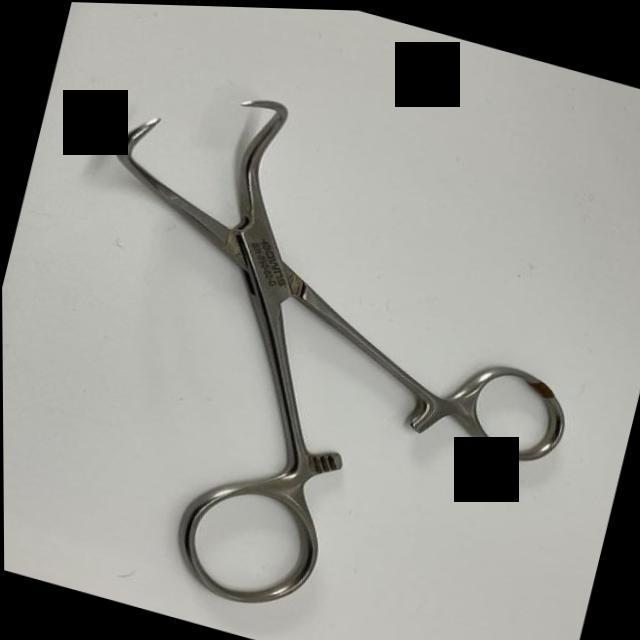Backhaus Towel Clamp: (12, 50, 630, 640)
